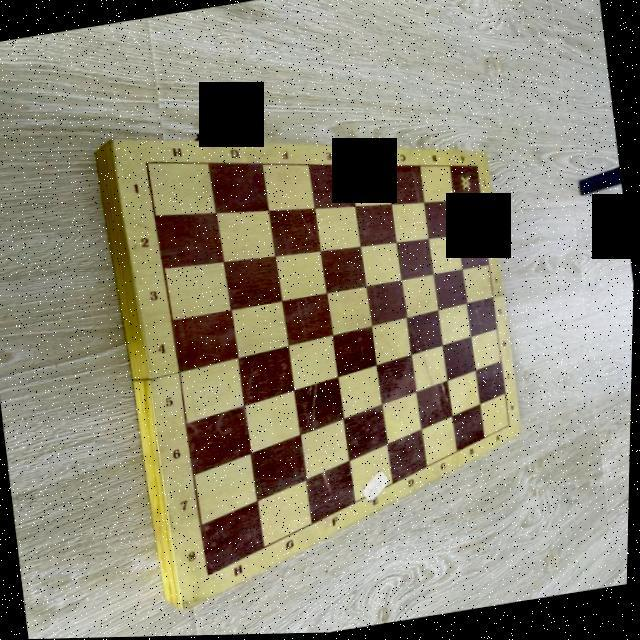chess-table-corners: (140, 157, 154, 170), (471, 162, 484, 174), (206, 570, 218, 581), (504, 423, 515, 432)
